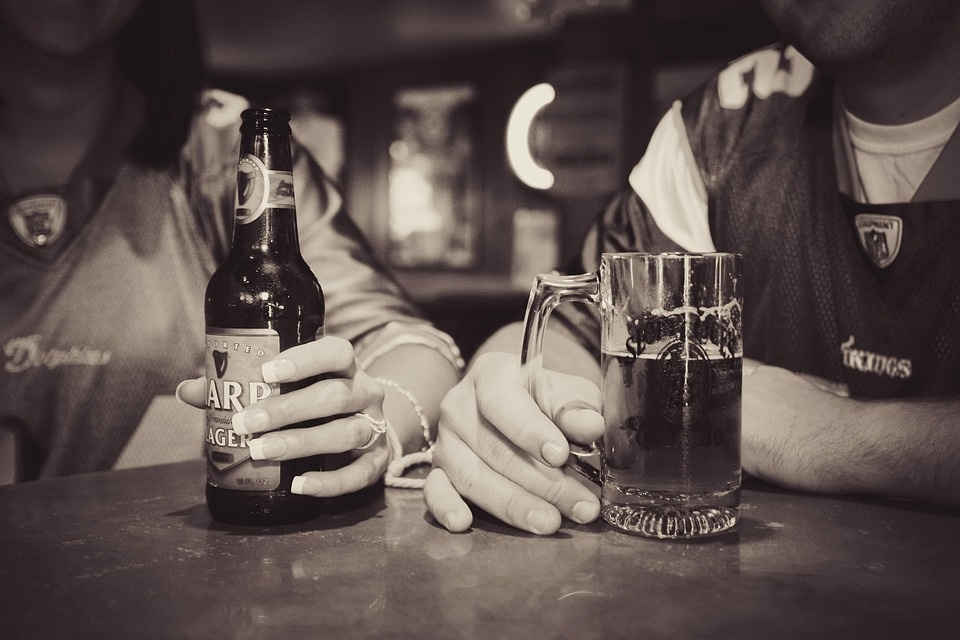beerBottle: (209, 108, 328, 518)
